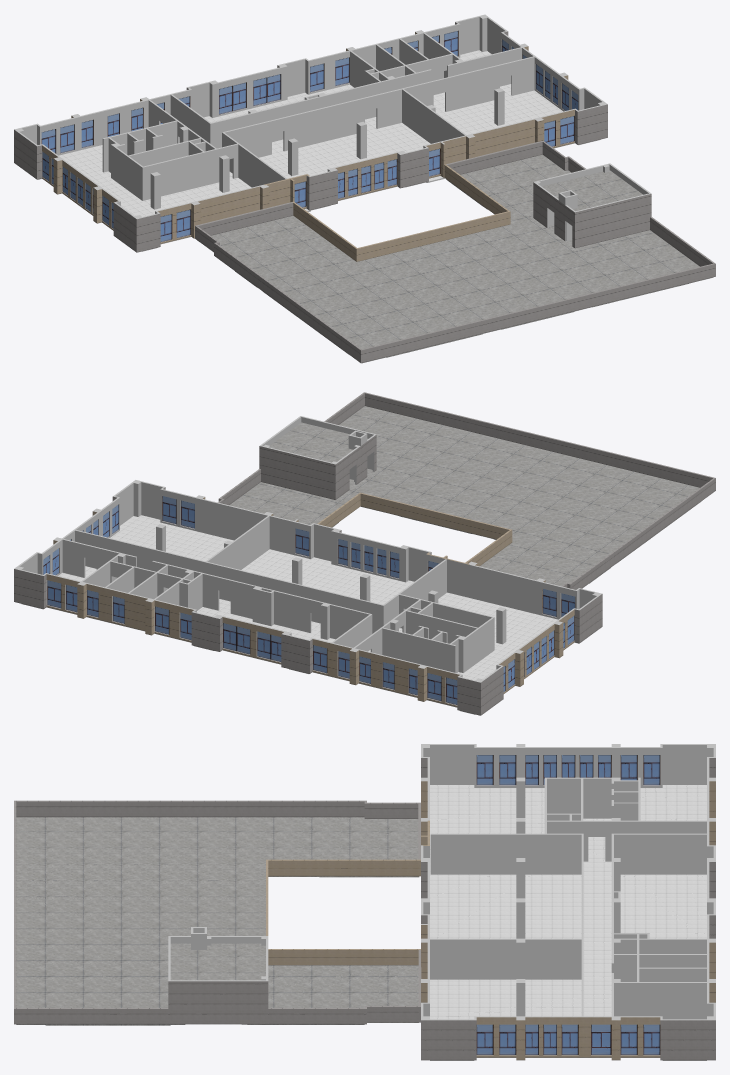
The picture shows the model from 3 angles, top to bottom: view 1: azimuth 30°, elevation 25°; view 2: azimuth 150°, elevation 25°; view 3: azimuth 270°, elevation 25°; orthographic projection. The views are drawn at different scales.
Parts seen in each view (by area): view 1: LC_7F_qiang, LC_7F_waidiban, LC_7F_diban, C_7F_chuang; view 2: LC_7F_qiang, LC_7F_waidiban, LC_7F_diban, C_7F_chuang; view 3: LC_7F_qiang, LC_7F_waidiban, LC_7F_diban, C_7F_chuang.
Boxes of the visible parts, left/top/right/bottom form: LC_7F_qiang: left=14, top=14, right=715, bottom=363; LC_7F_waidiban: left=197, top=154, right=712, bottom=363; LC_7F_diban: left=38, top=50, right=600, bottom=251; C_7F_chuang: left=41, top=30, right=578, bottom=241; LC_7F_qiang: left=14, top=392, right=715, bottom=715; LC_7F_waidiban: left=229, top=406, right=700, bottom=586; LC_7F_diban: left=21, top=515, right=578, bottom=714; C_7F_chuang: left=43, top=496, right=575, bottom=704; LC_7F_qiang: left=14, top=744, right=715, bottom=1060; LC_7F_waidiban: left=16, top=817, right=419, bottom=1025; LC_7F_diban: left=430, top=785, right=706, bottom=1060; C_7F_chuang: left=476, top=755, right=660, bottom=1054.
Size of the model in its own units: 57600 by 5250 by 61850.
Materials: 6 (5 with a texture image).
